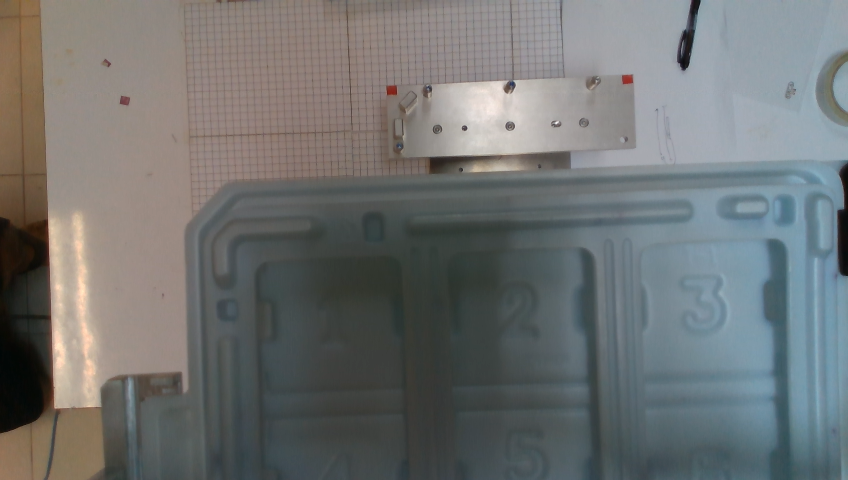red: (622, 74, 633, 84), (386, 86, 397, 95)
